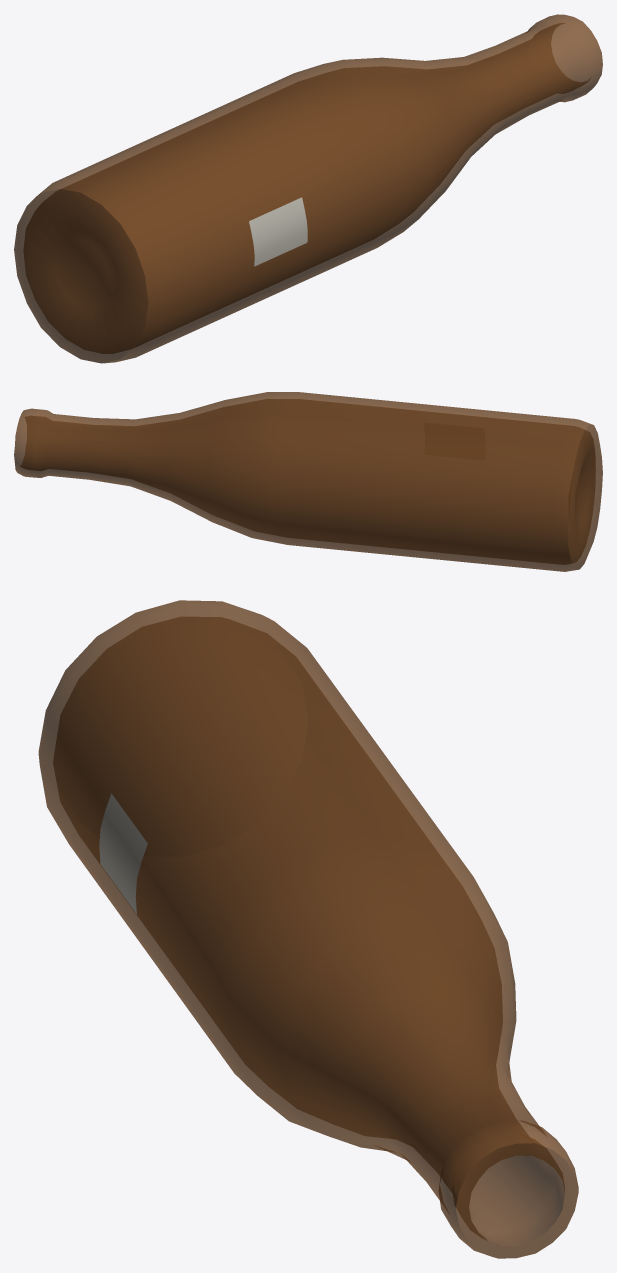
File: bottle_beer_lying.glb
The picture shows the model from 3 angles, top to bottom: view 1: azimuth 30°, elevation 25°; view 2: azimuth 150°, elevation 25°; view 3: azimuth 270°, elevation 25°; orthographic projection. The views are drawn at different scales.
Parts seen in each view (by area): view 1: bottle_beer_lying; view 2: bottle_beer_lying; view 3: bottle_beer_lying.
Part boxes in pixels (left/top/right/bottom): bottle_beer_lying: left=14, top=14, right=602, bottom=363; bottle_beer_lying: left=14, top=392, right=602, bottom=571; bottle_beer_lying: left=38, top=600, right=578, bottom=1258.
Bounding box in the file's own units: 0.2344 × 0.062 × 0.1084.
